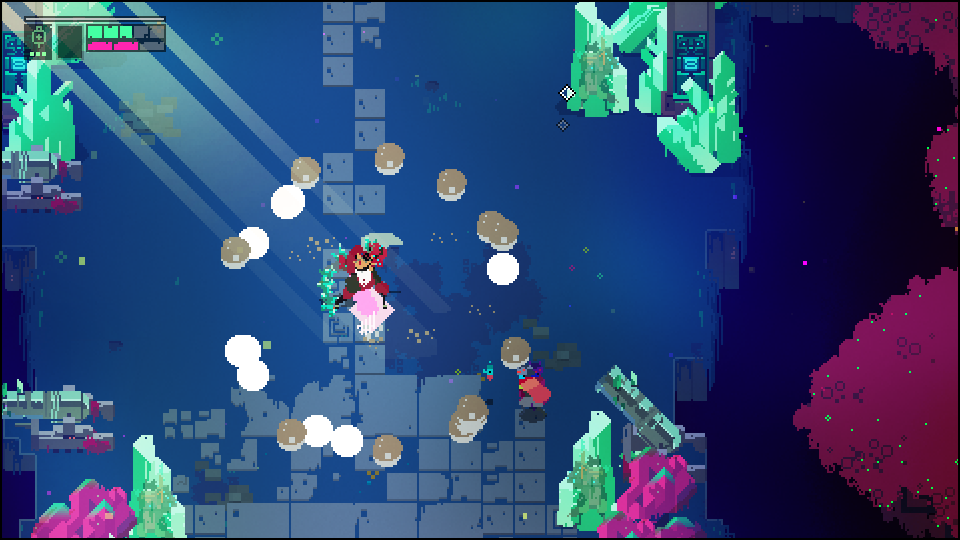hanged_man: (317, 229, 400, 315)
player: (515, 366, 552, 413)
